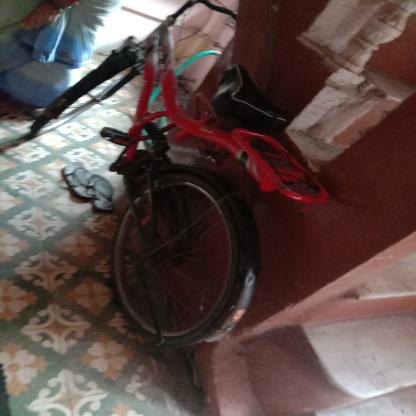bike: (21, 0, 328, 354)
